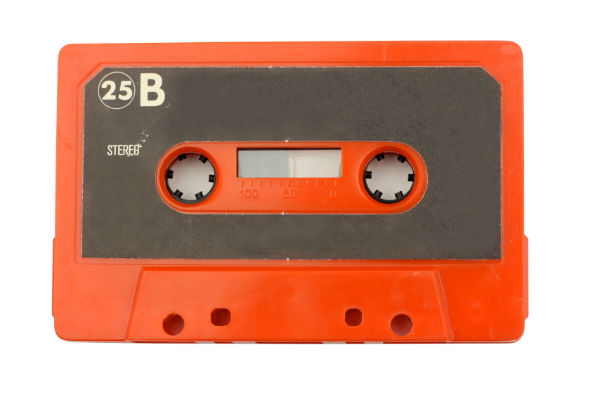Nonrec_Other: (23, 35, 561, 365)
